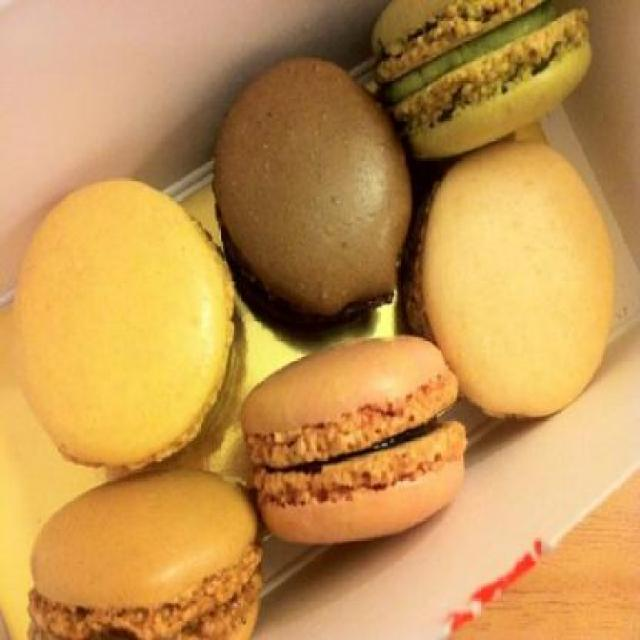Macaron: (9, 4, 622, 638)
